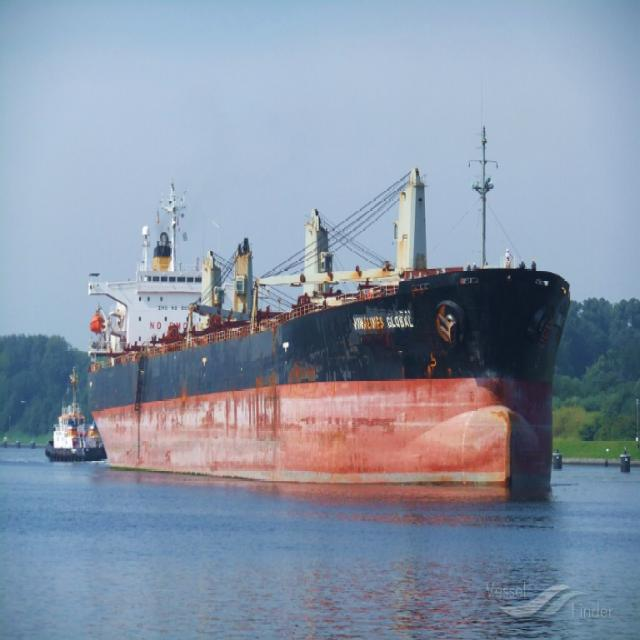OCR: (349, 308, 418, 346)
